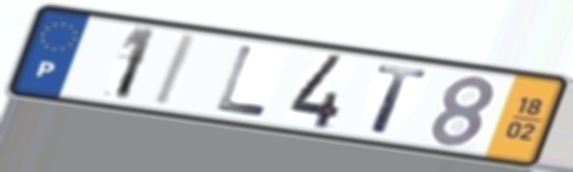1: (111, 24, 160, 105)
4: (286, 52, 346, 132)
8: (429, 73, 500, 149)
I: (149, 32, 202, 110)
L: (212, 43, 271, 119)
T: (367, 63, 432, 137)
